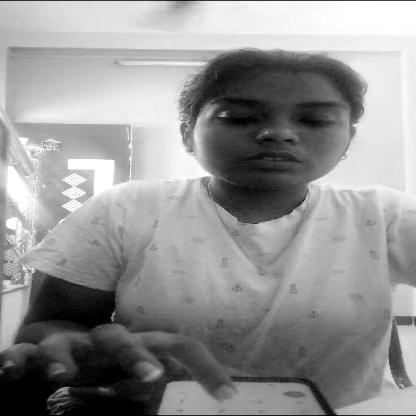Normal: (197, 72, 350, 186)
